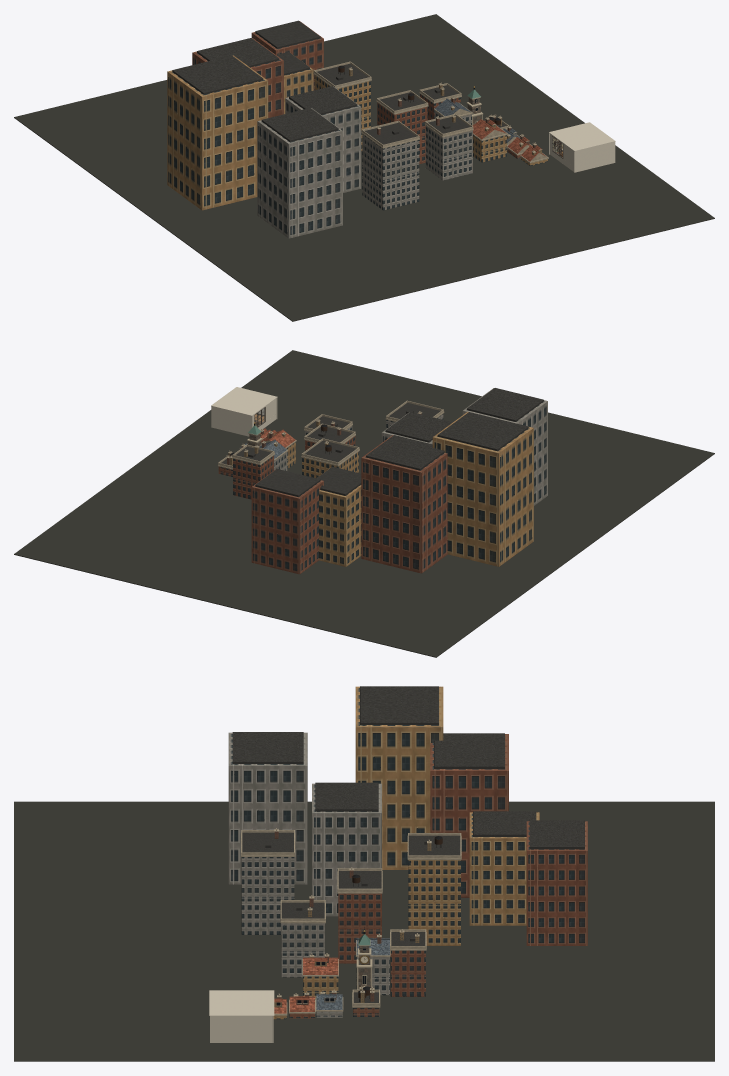
3 renders of one model, top to bottom at view 1: azimuth 30°, elevation 25°; view 2: azimuth 150°, elevation 25°; view 3: azimuth 270°, elevation 25°, orthographic. The views are drawn at different scales.
Visible parts, largest first — view 1: CITY_ground, CITY_distant_block_06, CITY_distant_block_04, CITY_building_11, CITY_building_08, CITY_distant_block_01, CITY_distant_block_06_roof, CITY_distant_block_04_roof, CITY_distant_block_02_roof, CITY_distant_block_02, CITY_distant_block_01_roof, ROOM_ceiling (+9 smaller); view 2: CITY_ground, CITY_distant_block_06, CITY_distant_block_02, CITY_distant_block_05, CITY_distant_block_03, CITY_distant_block_06_roof, CITY_distant_block_04, CITY_distant_block_02_roof, CITY_distant_block_04_roof, CITY_distant_block_01_roof, ROOM_ceiling, CITY_building_07 (+5 smaller); view 3: CITY_ground, CITY_distant_block_06, CITY_distant_block_04, CITY_distant_block_05, CITY_distant_block_01, CITY_distant_block_03, CITY_distant_block_02, CITY_building_10, CITY_building_11, CITY_distant_block_06_roof, CITY_distant_block_02_roof, CITY_building_09 (+14 smaller).
Boxes of the visible parts, x1,y1,x2,y2 form: CITY_ground: [14, 14, 714, 321]; CITY_distant_block_06: [167, 55, 268, 210]; CITY_distant_block_04: [257, 108, 342, 238]; CITY_building_11: [362, 134, 419, 210]; CITY_building_08: [425, 126, 472, 180]; CITY_distant_block_01: [285, 86, 361, 192]; CITY_distant_block_06_roof: [172, 55, 263, 94]; CITY_distant_block_04_roof: [261, 108, 338, 141]; CITY_distant_block_02_roof: [197, 38, 279, 67]; CITY_distant_block_02: [192, 38, 283, 117]; CITY_distant_block_01_roof: [289, 86, 357, 114]; ROOM_ceiling: [549, 122, 615, 151]; CITY_ground: [14, 350, 714, 657]; CITY_distant_block_06: [432, 412, 533, 566]; CITY_distant_block_02: [361, 435, 447, 573]; CITY_distant_block_05: [251, 469, 323, 574]; CITY_distant_block_03: [317, 468, 361, 566]; CITY_distant_block_06_roof: [437, 412, 528, 451]; CITY_distant_block_04: [462, 388, 547, 505]; CITY_distant_block_02_roof: [366, 435, 444, 470]; CITY_distant_block_04_roof: [467, 388, 543, 421]; CITY_distant_block_01_roof: [385, 412, 452, 442]; ROOM_ceiling: [211, 387, 277, 415]; CITY_building_07: [233, 455, 273, 499]; CITY_ground: [14, 801, 714, 1061]; CITY_distant_block_06: [355, 686, 443, 869]; CITY_distant_block_04: [228, 732, 307, 884]; CITY_distant_block_05: [526, 821, 587, 945]; CITY_distant_block_01: [312, 783, 381, 916]; CITY_distant_block_03: [469, 812, 539, 925]; CITY_distant_block_02: [430, 734, 508, 897]; CITY_building_10: [408, 860, 460, 945]; CITY_building_11: [241, 857, 294, 934]; CITY_distant_block_06_roof: [360, 686, 438, 724]; CITY_distant_block_02_roof: [434, 733, 504, 768]; CITY_building_09: [338, 893, 381, 963].
Bounding box in the file's own units: 70 × 18.42 × 80.
134 materials, 86 textured.
